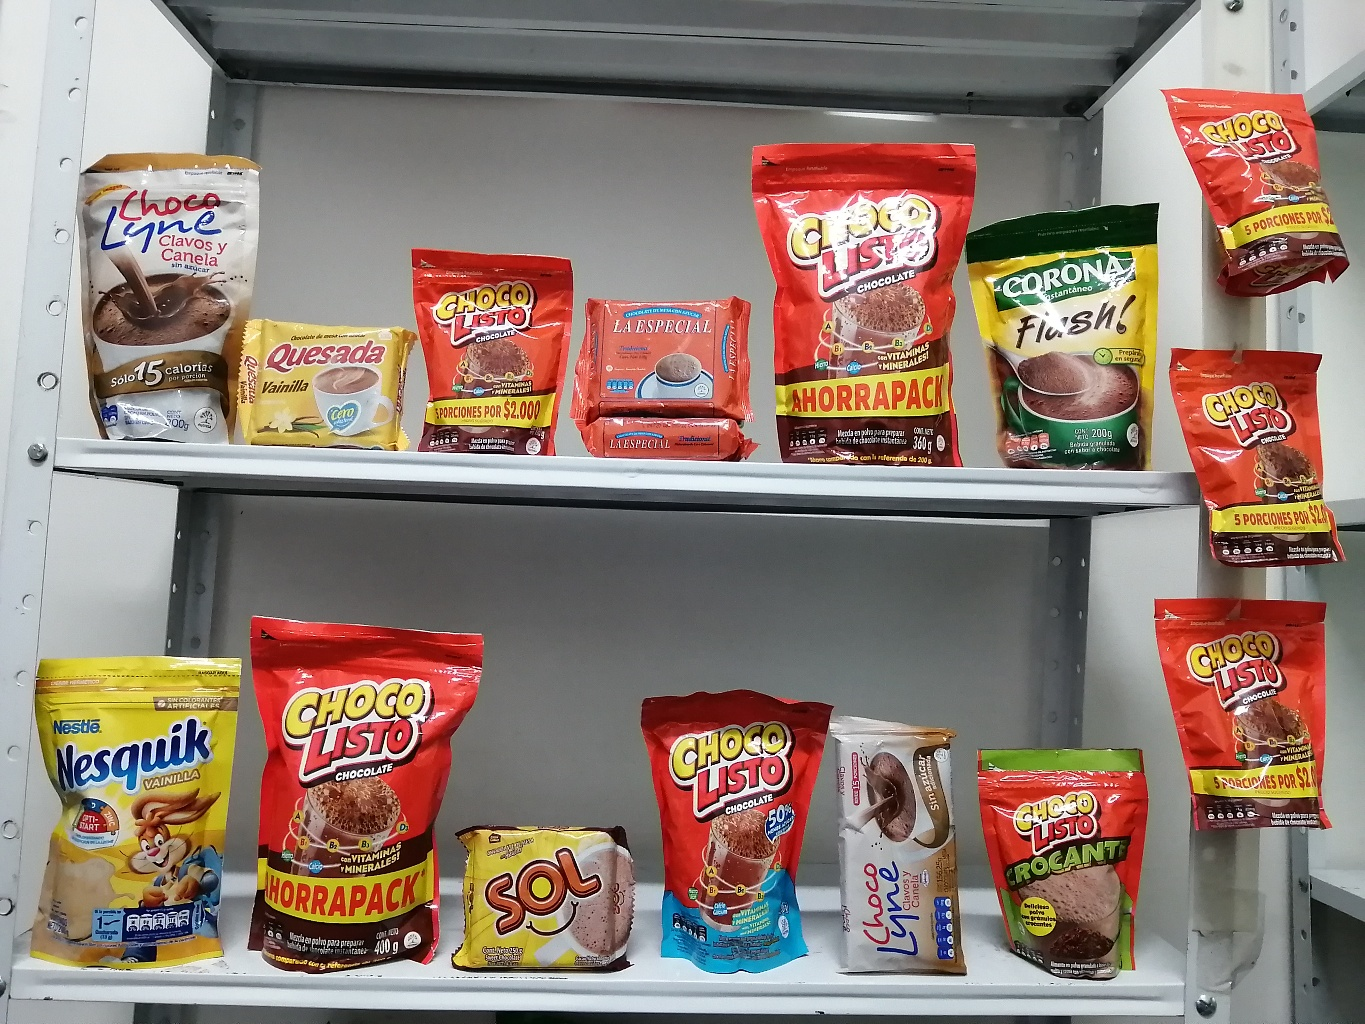COL0170102DYP10000: (964, 726, 1185, 989)
COL0170103DYP10000: (1150, 70, 1356, 299)
COL0170103DYP36000: (731, 112, 995, 490)
COL0170103DYP40000: (234, 594, 493, 975)
COL0170104DYP20000: (617, 681, 850, 991)
COL0170306DYP20000: (20, 645, 248, 977)
